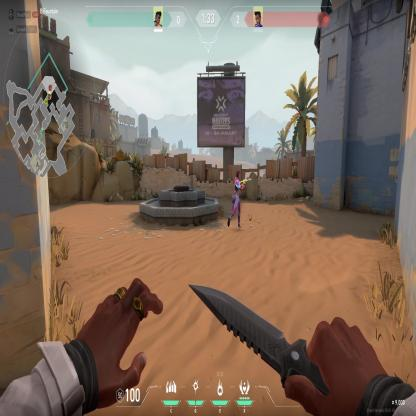enemy: (226, 170, 242, 233)
